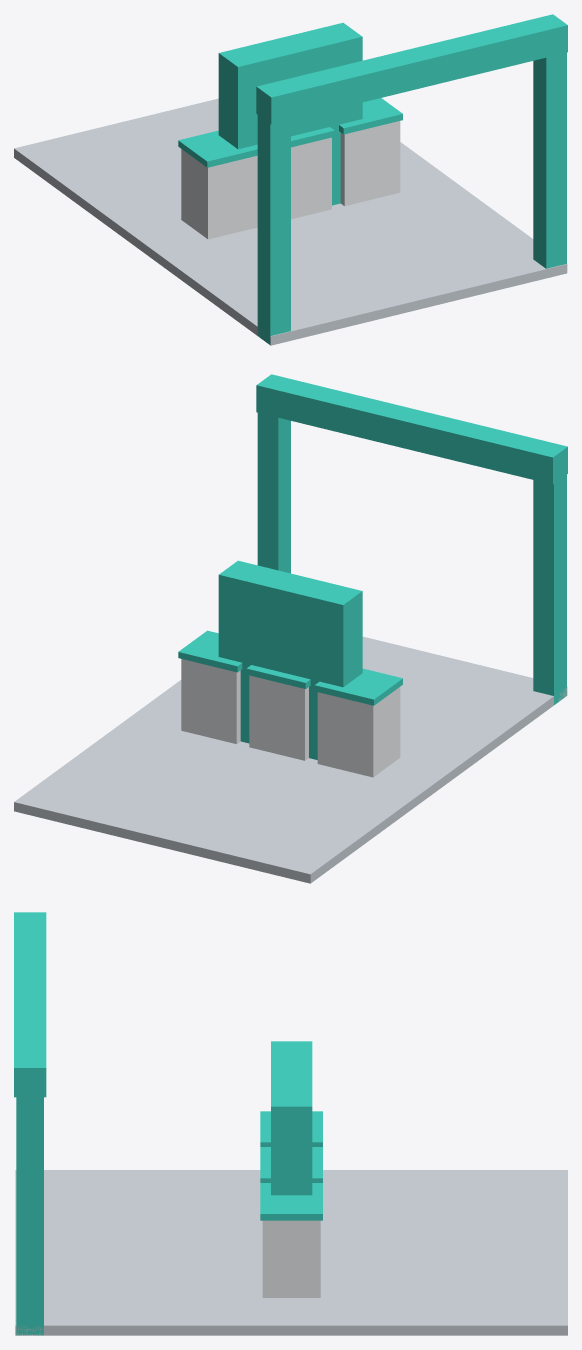
3 views of the same model, one above another, from view 1: azimuth 30°, elevation 25°; view 2: azimuth 150°, elevation 25°; view 3: azimuth 270°, elevation 25° (orthographic). The views are drawn at different scales.
Parts seen in each view (by area): view 1: Exhibition Booth Concept; view 2: Exhibition Booth Concept; view 3: Exhibition Booth Concept.
Part boxes in pixels (box(x1,y1,x2,y2)): Exhibition Booth Concept: box(14, 14, 567, 345); Exhibition Booth Concept: box(14, 374, 567, 883); Exhibition Booth Concept: box(14, 912, 567, 1335).
Size of the model in its own units: 4 by 3.2 by 6.02.
